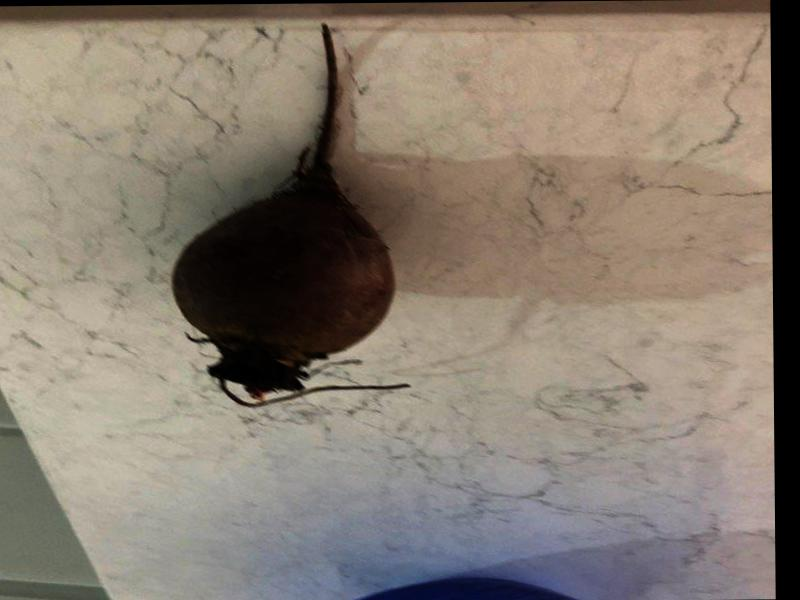Beet: (172, 23, 411, 409)
